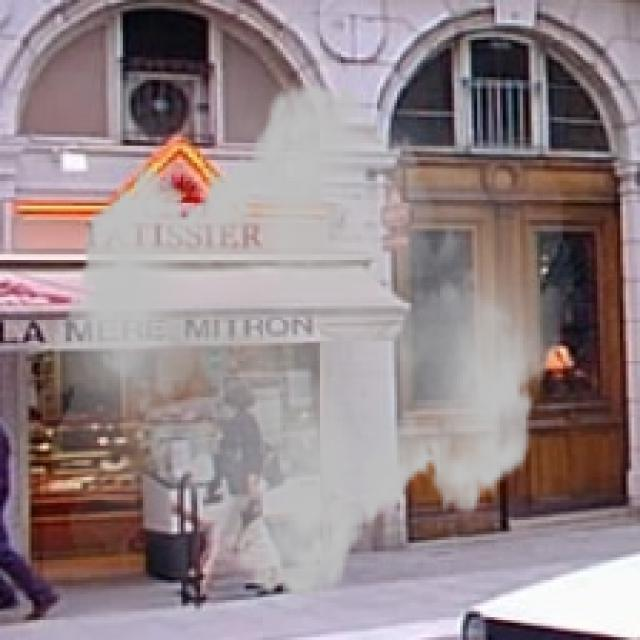smoke: (40, 60, 574, 620)
